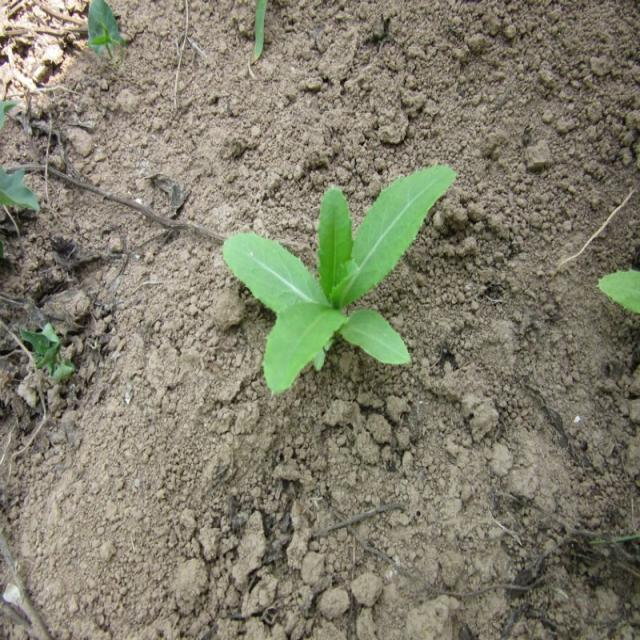field_thistle: (208, 138, 474, 392)
